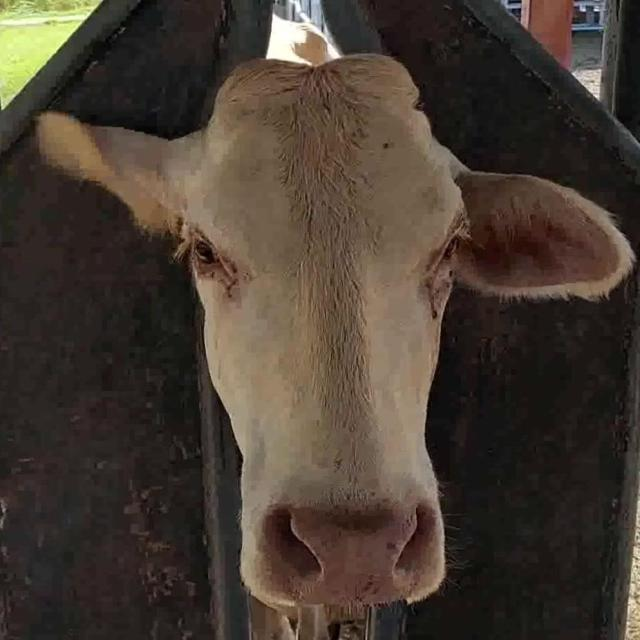cowFace: (186, 59, 466, 591)
